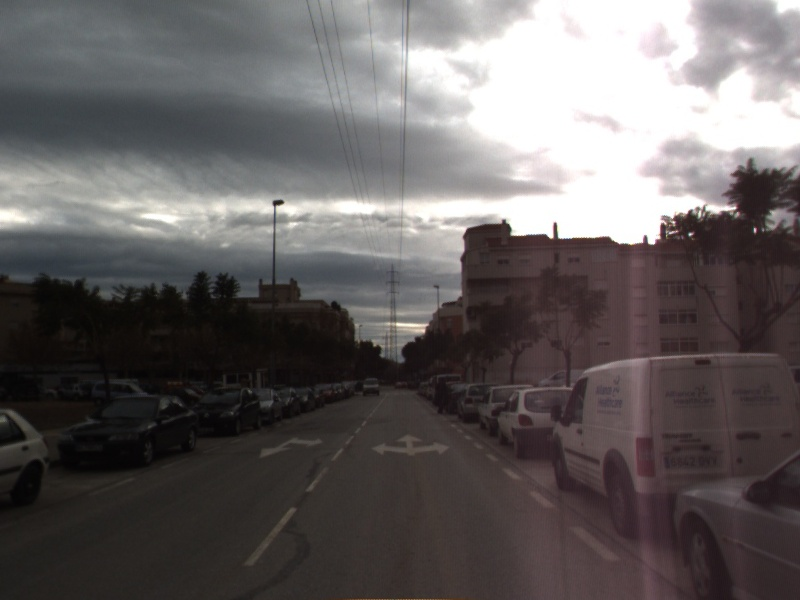STRAIGHT_LEFT_RIGHT: (369, 431, 452, 458)
